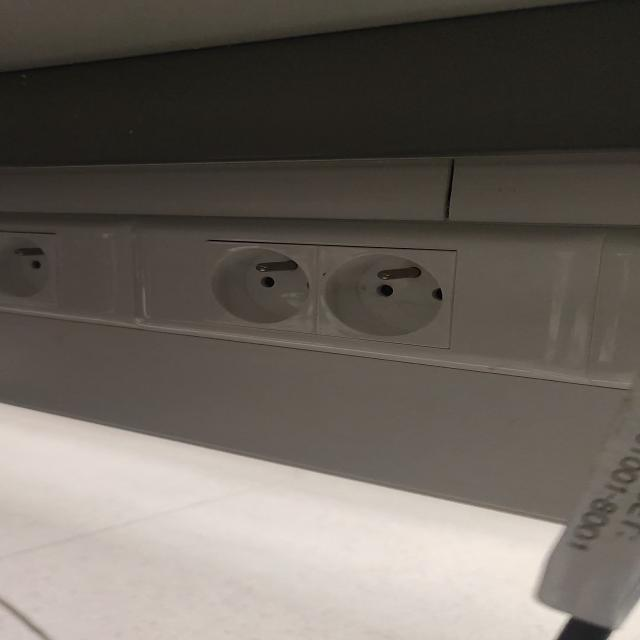house plug: (313, 244, 461, 353), (200, 242, 321, 335)
